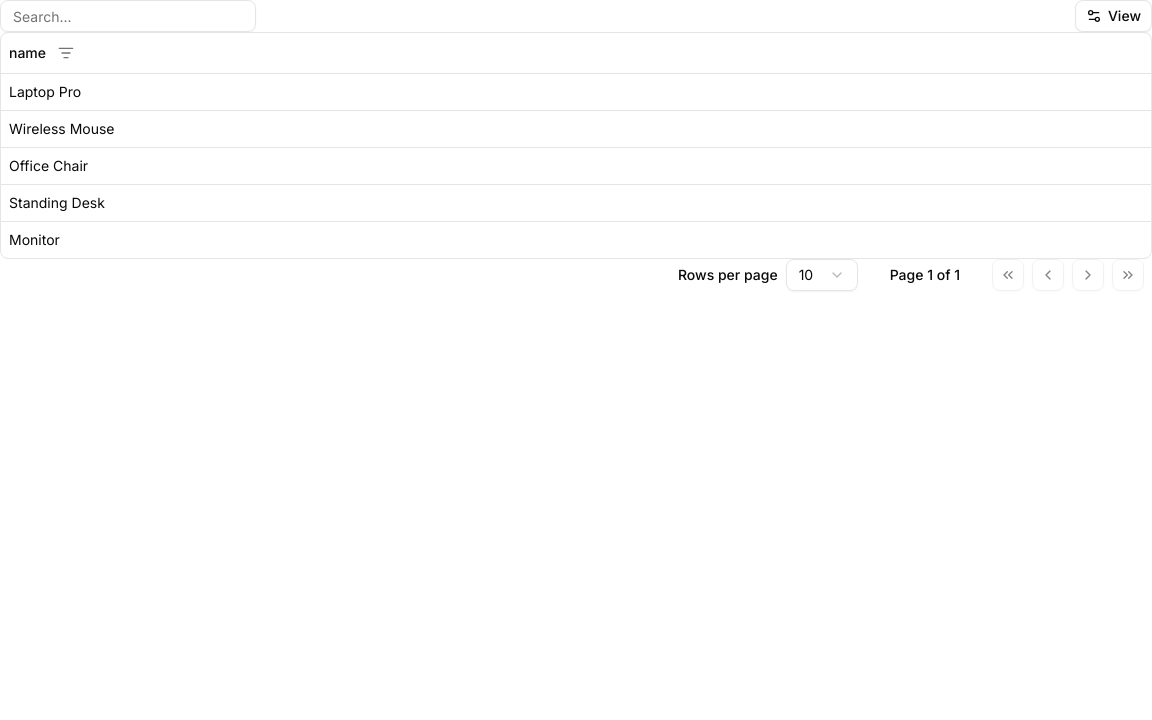
Test: filter-only column header › shows the column id as a plain title with the filter button
Check: the text "name" is shown, box x1=9 y1=43 x2=46 y2=63
Click the button named "Filter name": (66, 53) x1=50 y1=37 x2=82 y2=69
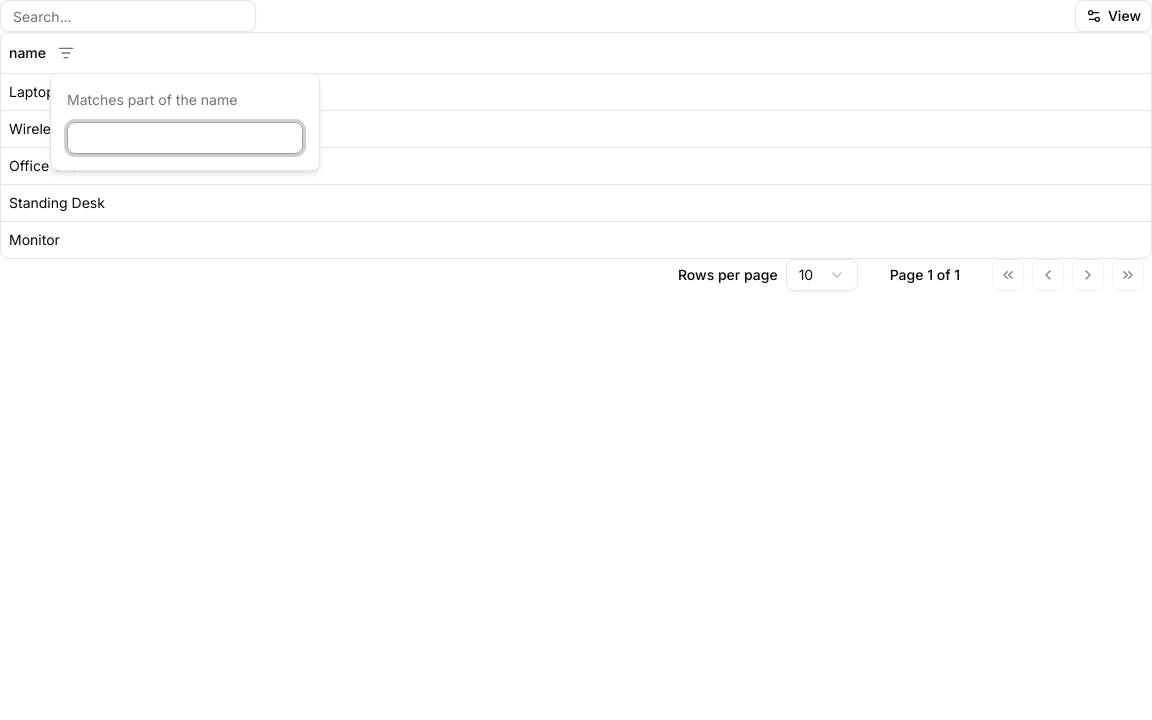
Check: the text "Matches part of the name" is shown, box x1=67 y1=91 x2=237 y2=108
